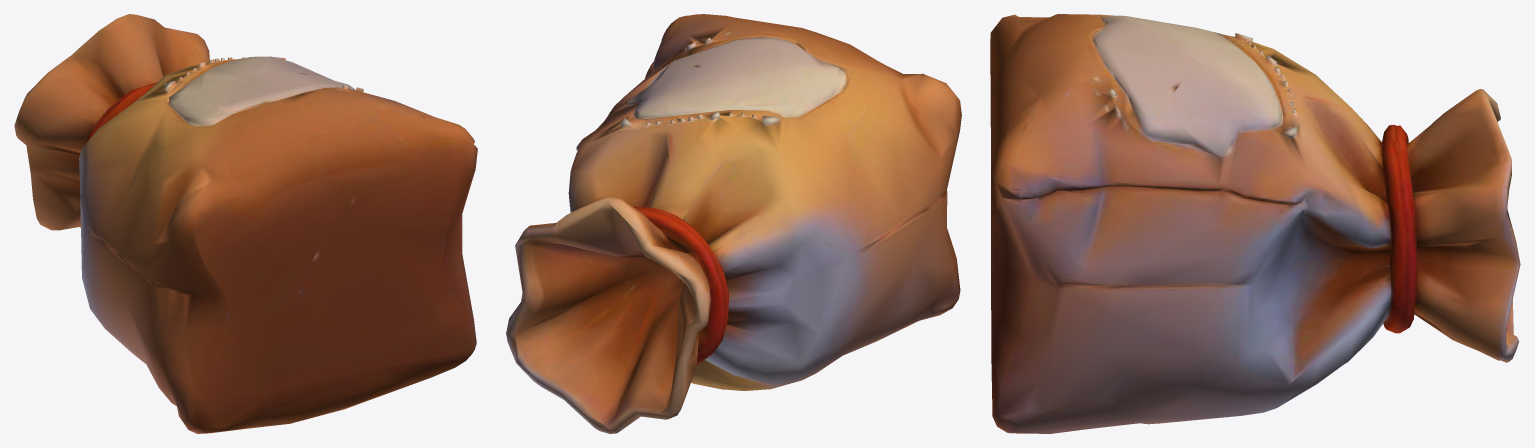
The picture shows the model from 3 angles, left to right: view 1: azimuth 30°, elevation 25°; view 2: azimuth 150°, elevation 25°; view 3: azimuth 270°, elevation 25°; orthographic projection. The views are drawn at different scales.
Visible parts, largest first — view 1: material; view 2: material; view 3: material.
Boxes of the visible parts, x1,y1,x2,y2 form: material: (14,14,477,433); material: (506,14,961,433); material: (990,14,1520,433).
Bounding box in the file's own units: 0.7795 × 0.7612 × 1.
Materials: 1 (1 with a texture image).
